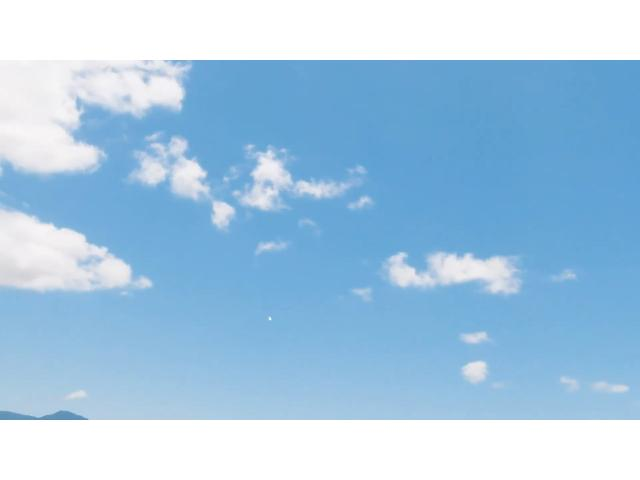Anti-Drone: (262, 313, 278, 327)
